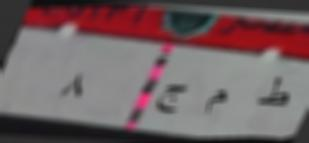8: (56, 68, 92, 105)
Taa: (249, 71, 295, 114)
jeem: (148, 77, 189, 120)
meem: (200, 78, 231, 126)
